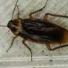cockroach: (7, 16, 68, 48)
